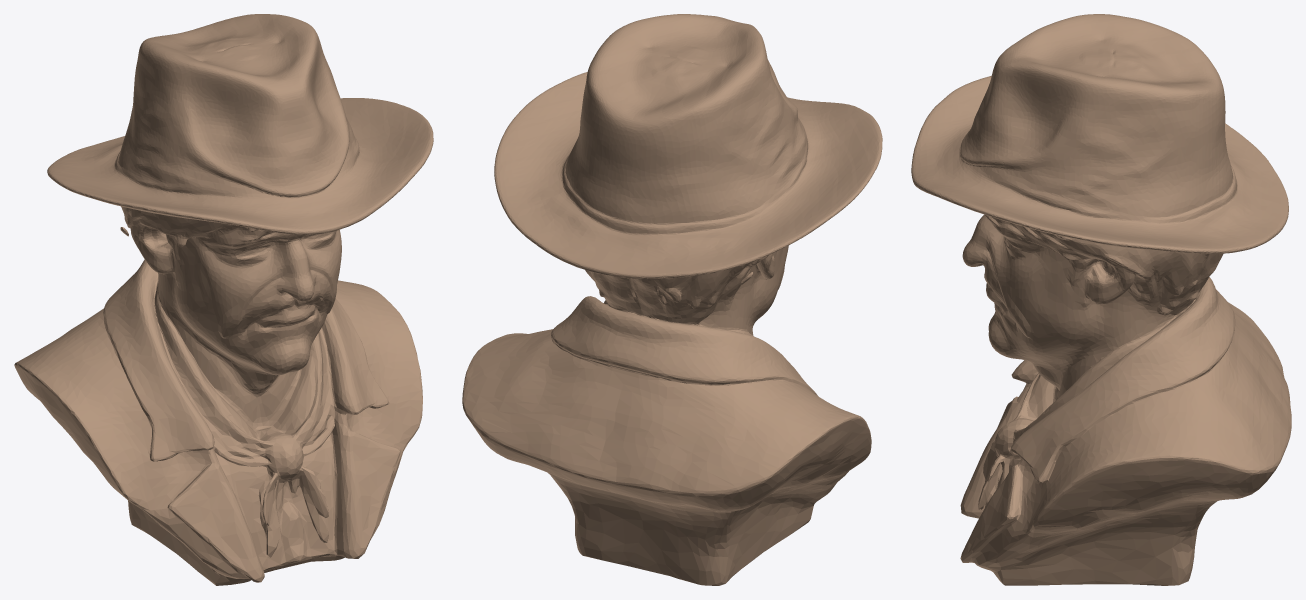
The model's file is interviewer.glb.
3 views of the same model, side by side, from view 1: azimuth 30°, elevation 25°; view 2: azimuth 150°, elevation 25°; view 3: azimuth 270°, elevation 25° (orthographic). The views are drawn at different scales.
Visible parts, largest first — view 1: Bust; view 2: Bust; view 3: Bust.
Part boxes in pixels (x1,y1,x2,y2): Bust: [14, 14, 433, 585]; Bust: [462, 14, 882, 585]; Bust: [911, 14, 1291, 585].
Size of the model in its own units: 0.4005 by 0.55 by 0.3754.
